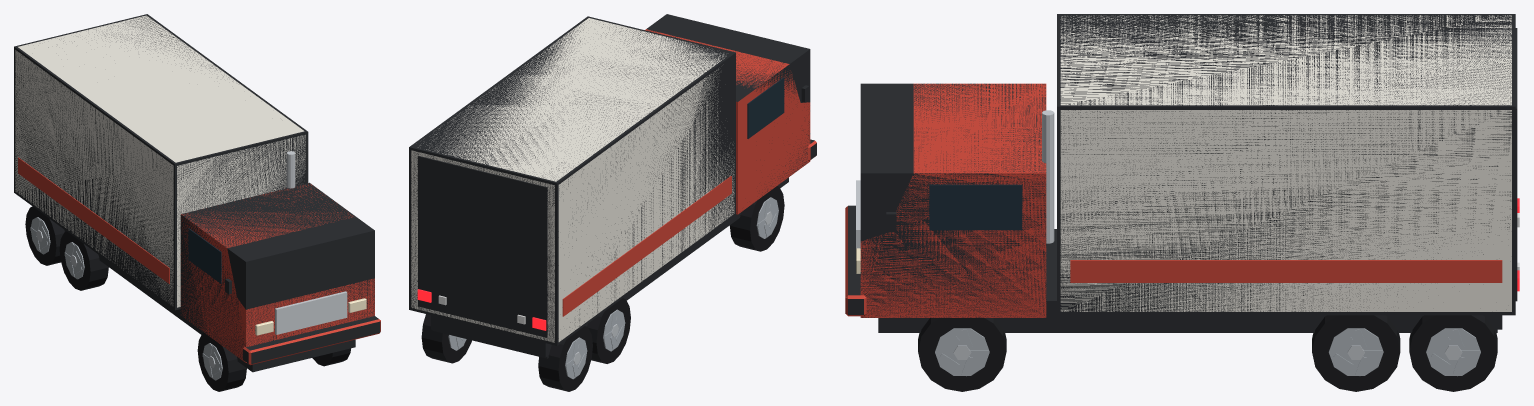
Rendered from VEH_Truck.fbx.
3 views of the same model, side by side, from view 1: azimuth 30°, elevation 25°; view 2: azimuth 150°, elevation 25°; view 3: azimuth 270°, elevation 25° (orthographic). The views are drawn at different scales.
Parts seen in each view (by area): view 1: VEH_Truck__BODY, VEH_Truck__COL_Box, VEH_Truck__COL_Cab, VEH_Truck__WHEEL_RR, VEH_Truck__WHEEL_FR, VEH_Truck__WHEEL_RR2, VEH_Truck__COL_Frame, VEH_Truck__LIGHTS, VEH_Truck__WHEEL_FL, VEH_Truck__EXHAUST; view 2: VEH_Truck__BODY, VEH_Truck__COL_Box, VEH_Truck__COL_Cab, VEH_Truck__WHEEL_RR2, VEH_Truck__WHEEL_FR, VEH_Truck__WHEEL_RR, VEH_Truck__WHEEL_RL2, VEH_Truck__COL_Frame, VEH_Truck__LIGHTS; view 3: VEH_Truck__BODY, VEH_Truck__COL_Box, VEH_Truck__COL_Cab, VEH_Truck__WHEEL_RL2, VEH_Truck__WHEEL_RL, VEH_Truck__WHEEL_FL, VEH_Truck__COL_Frame, VEH_Truck__EXHAUST.
Part boxes in pixels (x1,y1,x2,y2): VEH_Truck__BODY: (15, 15, 380, 366); VEH_Truck__COL_Box: (14, 14, 308, 310); VEH_Truck__COL_Cab: (180, 182, 374, 361); VEH_Truck__WHEEL_RR: (59, 231, 108, 290); VEH_Truck__WHEEL_FR: (197, 333, 246, 391); VEH_Truck__WHEEL_RR2: (25, 206, 64, 265); VEH_Truck__COL_Frame: (65, 230, 355, 372); VEH_Truck__LIGHTS: (255, 298, 366, 335); VEH_Truck__WHEEL_FL: (312, 348, 350, 366); VEH_Truck__EXHAUST: (286, 151, 295, 188); VEH_Truck__BODY: (411, 18, 816, 357); VEH_Truck__COL_Box: (409, 16, 735, 345); VEH_Truck__COL_Cab: (646, 14, 810, 196); VEH_Truck__WHEEL_RR2: (538, 326, 592, 391); VEH_Truck__WHEEL_FR: (729, 186, 784, 251); VEH_Truck__WHEEL_RR: (587, 298, 630, 363); VEH_Truck__WHEEL_RL2: (421, 314, 471, 363); VEH_Truck__COL_Frame: (432, 177, 788, 358); VEH_Truck__LIGHTS: (417, 289, 546, 330); VEH_Truck__BODY: (845, 15, 1517, 329); VEH_Truck__COL_Box: (1057, 14, 1515, 315); VEH_Truck__COL_Cab: (860, 83, 1046, 317); VEH_Truck__WHEEL_RL2: (1409, 315, 1497, 391); VEH_Truck__WHEEL_RL: (1312, 315, 1400, 391); VEH_Truck__WHEEL_FL: (918, 318, 1006, 391); VEH_Truck__COL_Frame: (878, 229, 1497, 332); VEH_Truck__EXHAUST: (1042, 110, 1054, 243).
Size of the model in its own units: 2.7 by 3.6 by 7.62.
